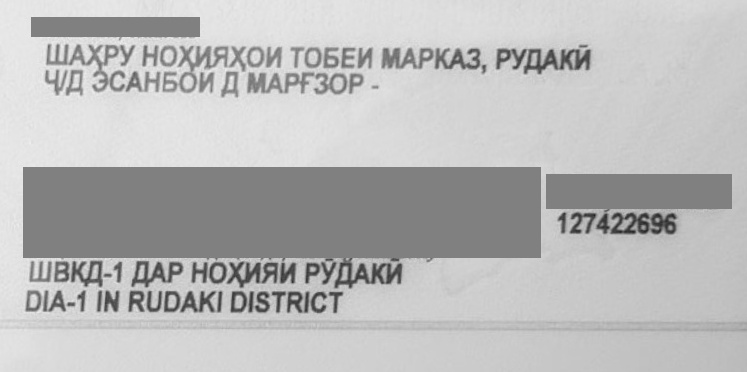1: (112, 251, 124, 293), (555, 208, 571, 236), (76, 285, 88, 317)
2: (567, 208, 587, 236), (610, 208, 628, 236), (623, 208, 641, 236)
4: (593, 208, 613, 236)
6: (635, 208, 653, 236), (663, 208, 679, 236)
7: (580, 208, 600, 236)
9: (648, 208, 668, 236)
А: (67, 33, 89, 77), (401, 35, 421, 79), (541, 36, 561, 80), (353, 254, 373, 292), (452, 36, 468, 80), (124, 62, 142, 100), (266, 62, 284, 100), (150, 253, 168, 291)
Б: (321, 35, 341, 79), (160, 62, 180, 100)
В: (50, 253, 70, 291)
Д: (64, 62, 92, 100), (85, 253, 105, 291), (333, 254, 353, 292), (526, 36, 542, 80), (133, 253, 151, 291), (224, 62, 238, 100)
Е: (338, 35, 358, 79)
З: (465, 36, 481, 80), (316, 63, 332, 101)
И: (262, 34, 290, 78), (383, 254, 411, 292), (357, 35, 381, 79), (575, 37, 599, 81), (277, 254, 303, 292), (192, 34, 212, 78), (242, 253, 262, 291)
Й: (196, 62, 224, 100)
К: (433, 35, 453, 79), (66, 253, 86, 291), (561, 36, 577, 80), (370, 254, 386, 292)
М: (243, 62, 267, 100), (383, 35, 399, 79)
Н: (139, 62, 159, 100), (143, 33, 159, 77), (194, 253, 208, 291)
О: (156, 33, 176, 77), (244, 34, 262, 78), (176, 62, 196, 100), (207, 253, 227, 291), (306, 34, 322, 78), (328, 63, 346, 101)
Р: (167, 253, 191, 291), (103, 33, 119, 77), (417, 35, 433, 79), (281, 62, 299, 100), (498, 36, 512, 80), (348, 63, 364, 101), (306, 254, 320, 292)
С: (106, 62, 124, 100)
Т: (287, 34, 309, 78)
У: (118, 33, 146, 77), (512, 36, 528, 80), (319, 254, 335, 292)
Ч: (47, 62, 63, 100)
Ш: (24, 253, 50, 291), (47, 33, 65, 77)
Э: (92, 62, 110, 100)
Я: (212, 34, 232, 78), (260, 254, 280, 292)
Ғ: (299, 62, 317, 100)
Ҳ: (178, 34, 198, 78), (226, 253, 246, 291), (88, 33, 104, 77), (232, 34, 248, 78)
